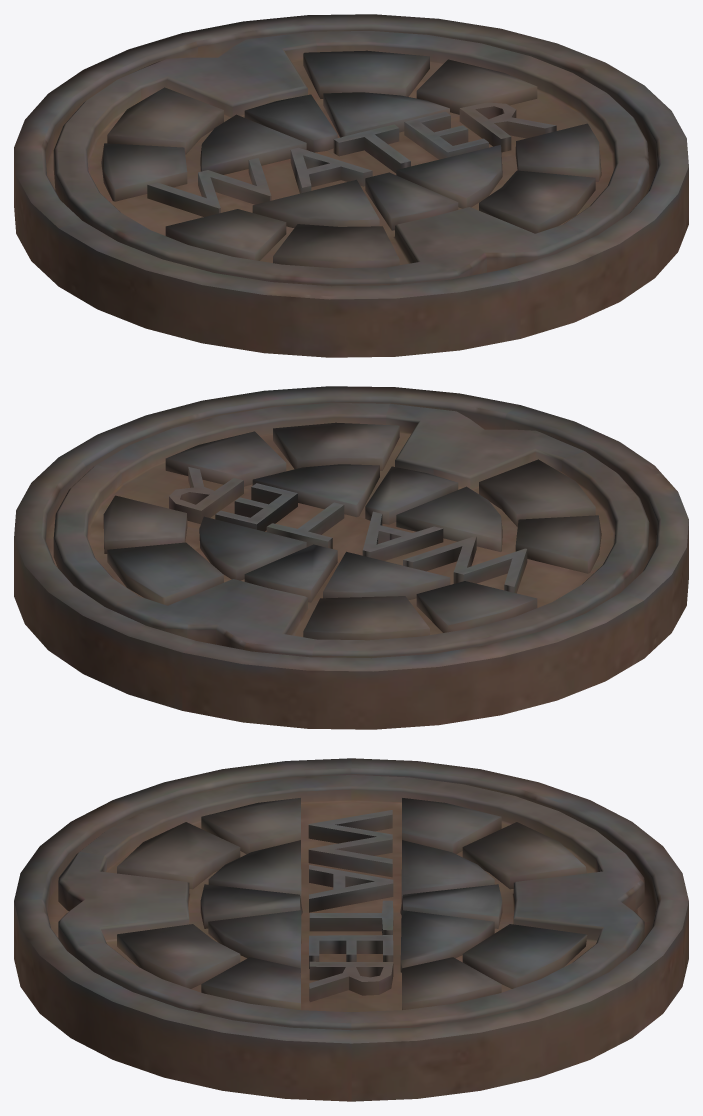
File: manhole.glb
The picture shows the model from 3 angles, top to bottom: view 1: azimuth 30°, elevation 25°; view 2: azimuth 150°, elevation 25°; view 3: azimuth 270°, elevation 25°; orthographic projection.
Parts seen in each view (by area): view 1: water_manhole_cover_frame; view 2: water_manhole_cover_frame; view 3: water_manhole_cover_frame.
Boxes of the visible parts, x1=… form: water_manhole_cover_frame: x1=14, y1=14, x2=688, y2=357; water_manhole_cover_frame: x1=14, y1=386, x2=688, y2=729; water_manhole_cover_frame: x1=14, y1=758, x2=688, y2=1101.
Bounding box in the file's own units: 0.6908 × 0.0676 × 0.6908.
Materials: 1 (1 with a texture image).
